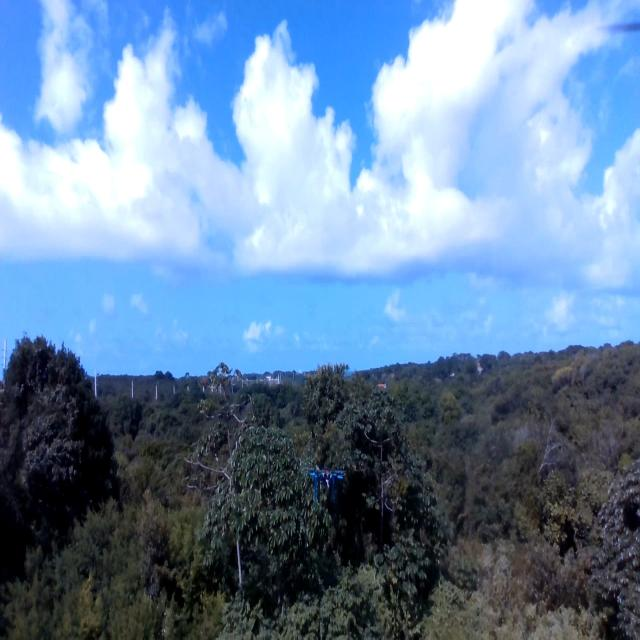-uav-: (301, 461, 358, 514)
